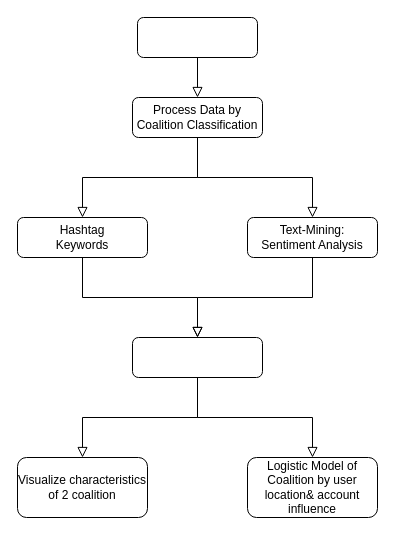
This 395x535 diagram has some shape labels left out. The shapes that lost their labels are listed below. From the top down, each one's centre as x and y in pixels, then its label:
At point 197,37: "Collect Data with Twitter API".
At point 197,357: "Cleaned & Classified Twitter Dataset for analysis".
